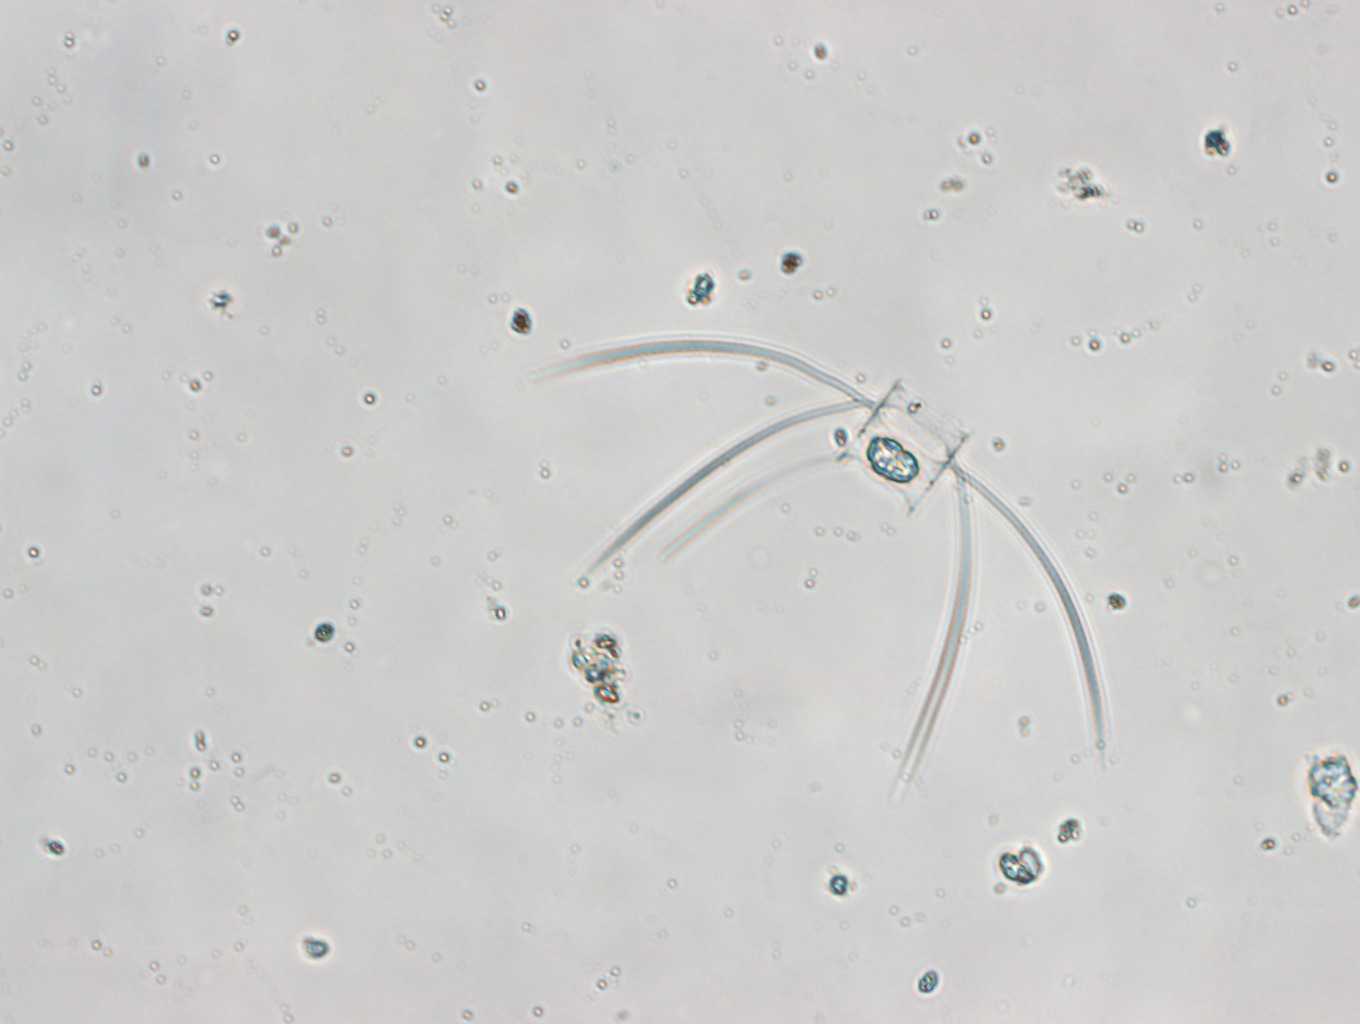chaetoceros: (538, 328, 1110, 797)
